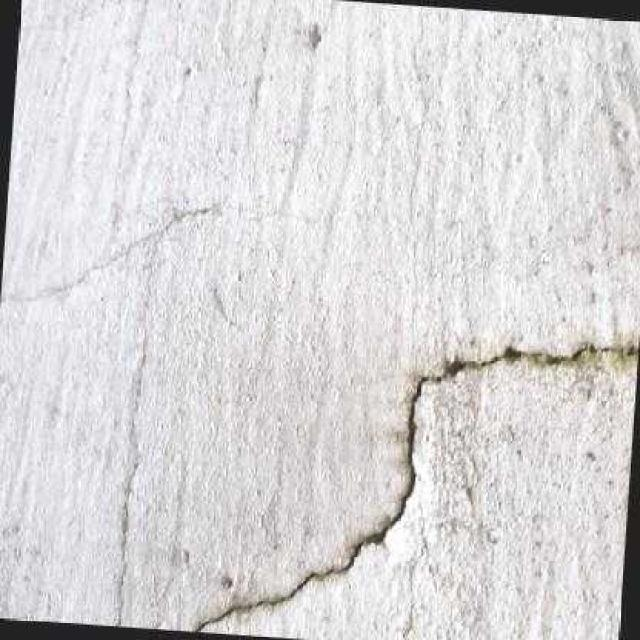D00: (193, 343, 639, 633)
